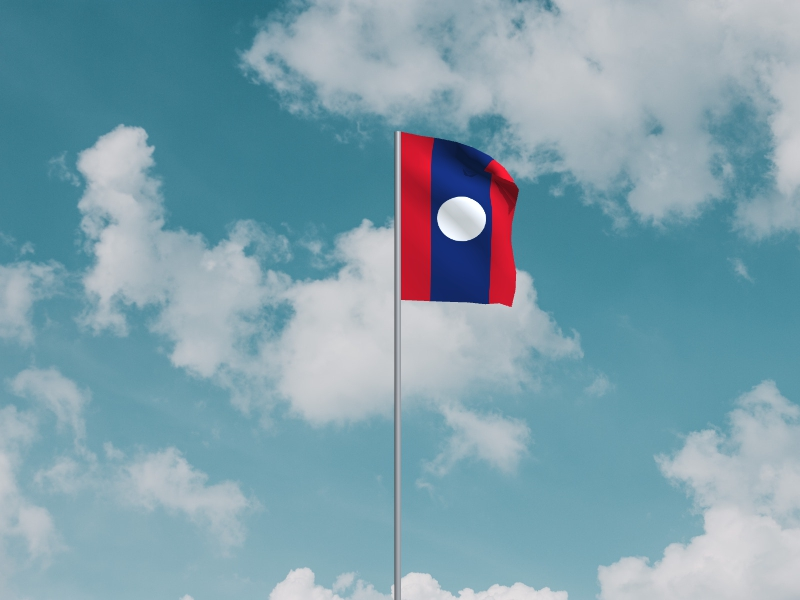la: (402, 132, 521, 308)
